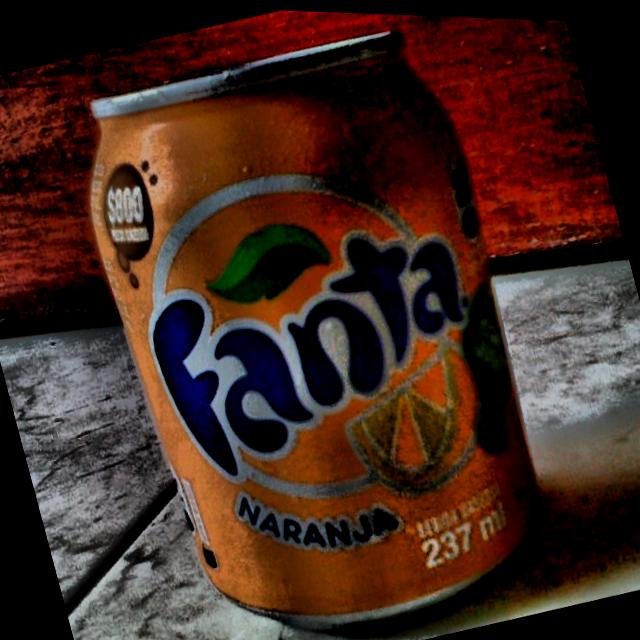Cans: (30, 1, 578, 640)
